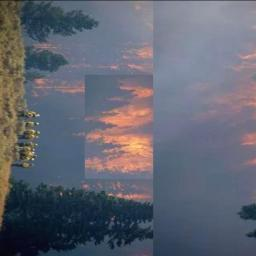Low smoke: (18, 3, 256, 256)
Small fire: (98, 75, 151, 180)
